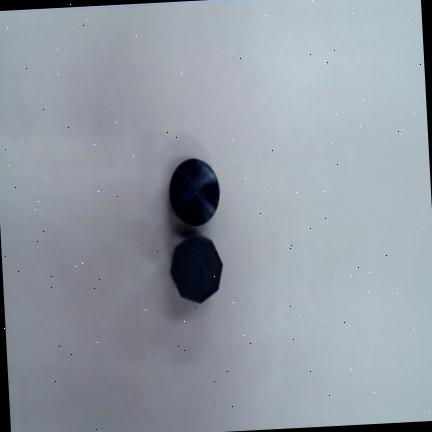Esfera: (170, 159, 220, 226)
Prisma_hexagonal: (170, 234, 223, 304)
